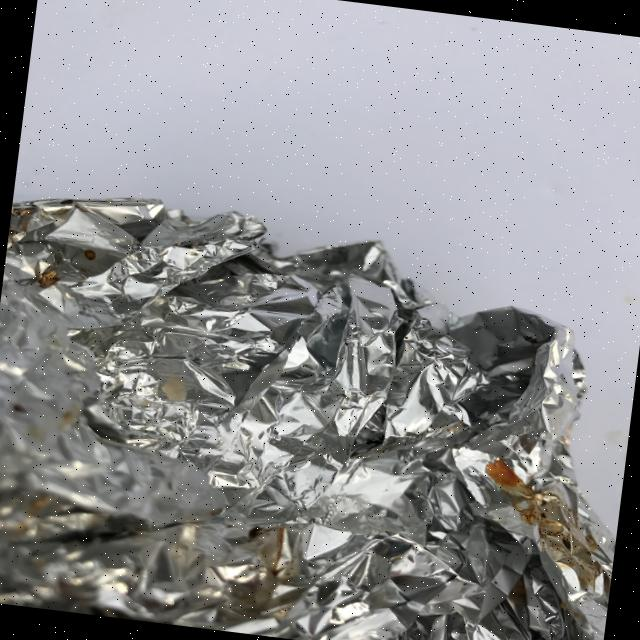metal: (0, 181, 640, 640)
